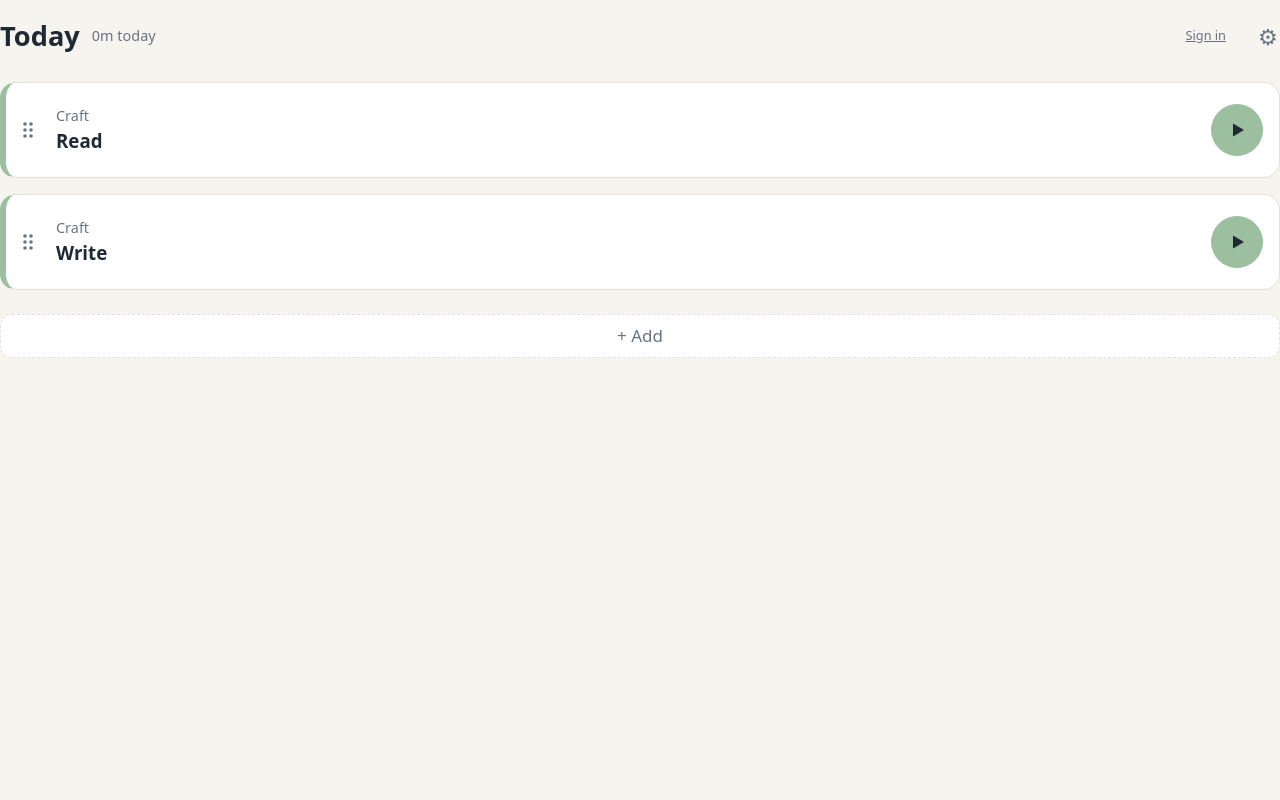
Test case: Today screen › adds a sub-goal that is not on the list and starts it
What coordinates should you click on to do the following:
click the button with class "add"
I would click on:
 (640, 336)
Its box is [0,314,1279,358].
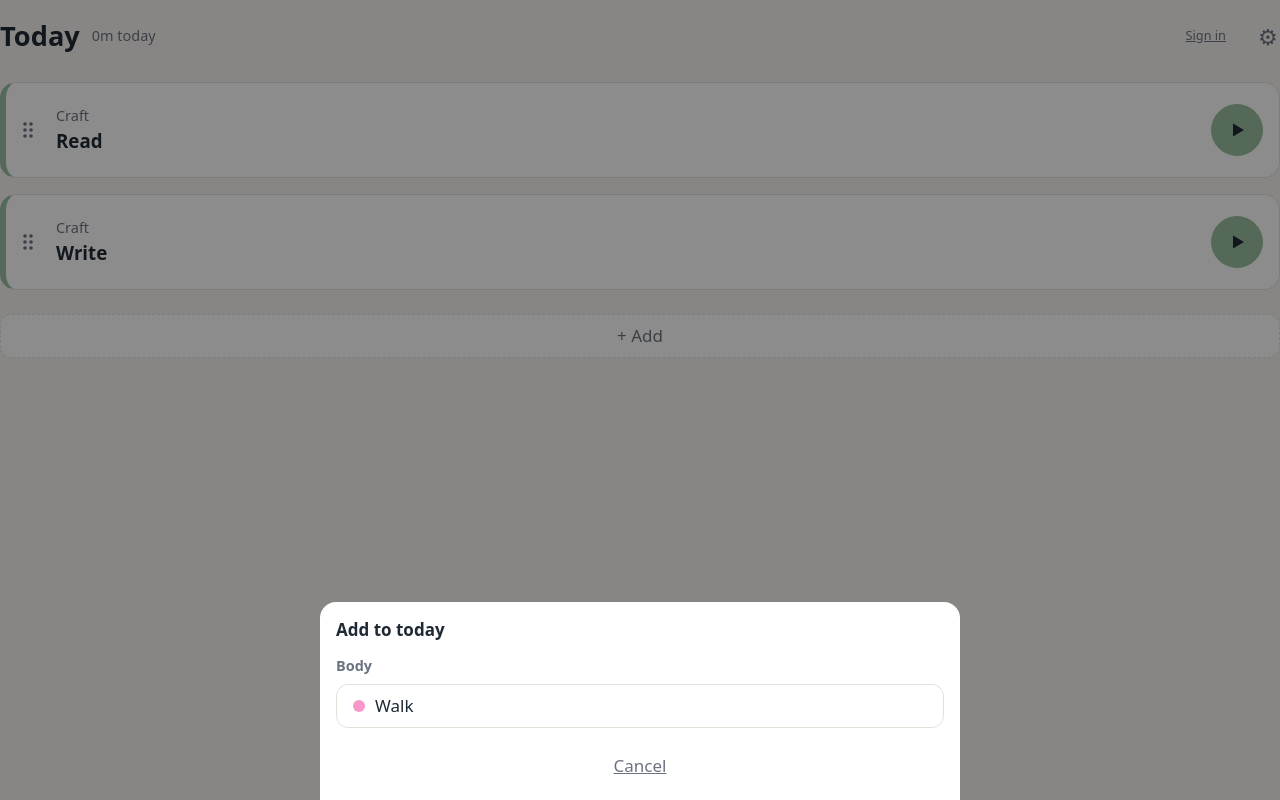
What coordinates should you click on to do the following:
click the button "Walk"
I would click on:
 (394, 706)
Its box is [336,684,944,728].
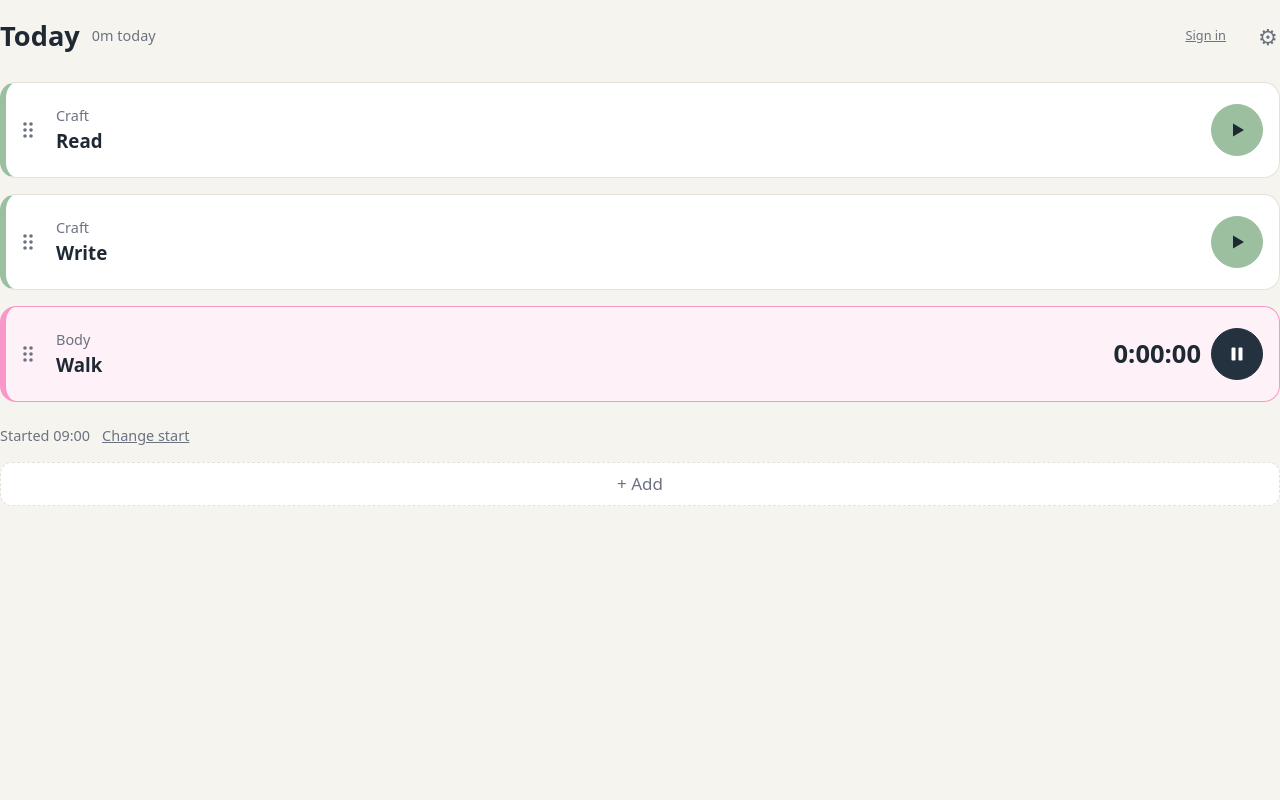
Expected: the dialog with class "sheet" is gone
